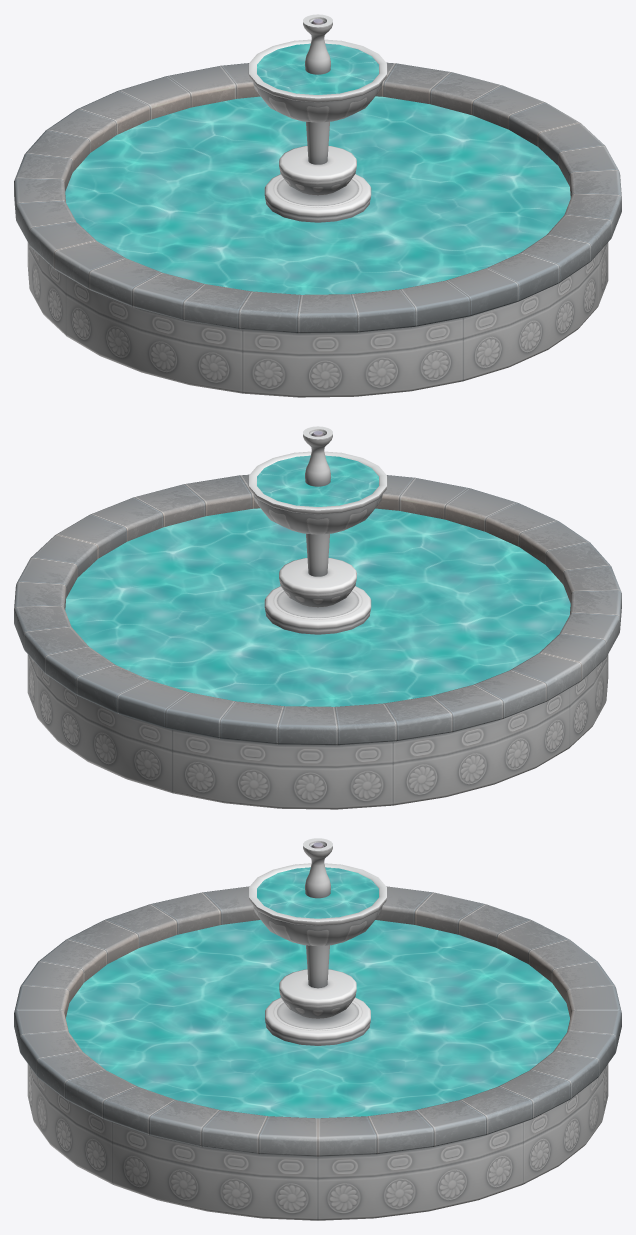
Rendered from ParkFountain01.FBX.
The picture shows the model from 3 angles, top to bottom: view 1: azimuth 30°, elevation 25°; view 2: azimuth 150°, elevation 25°; view 3: azimuth 270°, elevation 25°; orthographic projection.
Parts seen in each view (by area): view 1: ParkFountain01; view 2: ParkFountain01; view 3: ParkFountain01.
Boxes of the visible parts, <box> form: ParkFountain01: <box>14,14,621,397</box>; ParkFountain01: <box>14,426,621,809</box>; ParkFountain01: <box>14,838,621,1220</box>.
Size of what is drawn, in the model's own units: 5.65 by 2.61 by 5.65.
